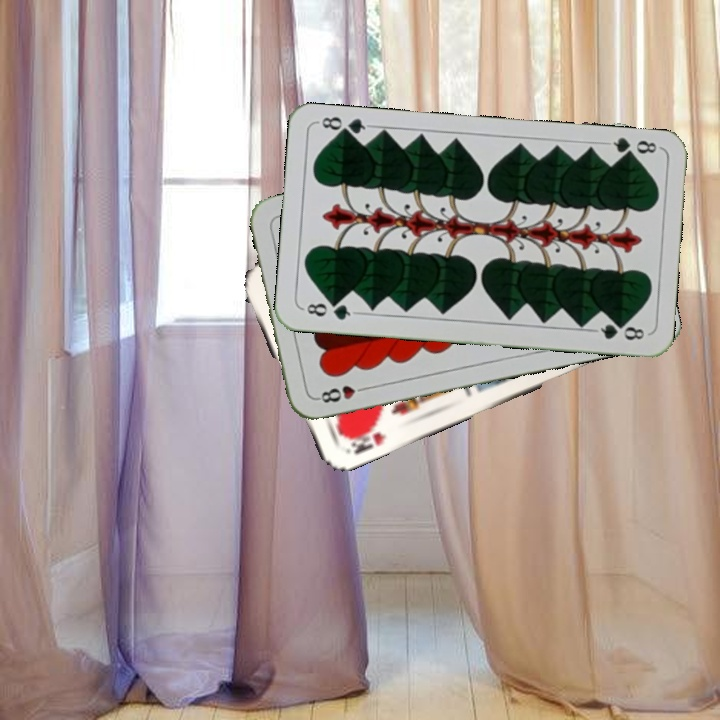G8: (603, 133, 662, 162), (299, 298, 358, 323)
H8: (312, 381, 371, 406)
HK: (337, 420, 389, 457)
